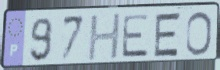7: (61, 13, 86, 64)
9: (28, 16, 55, 64)
E: (152, 11, 184, 59), (120, 13, 151, 60)
H: (86, 12, 123, 64)
O: (185, 10, 213, 58)
